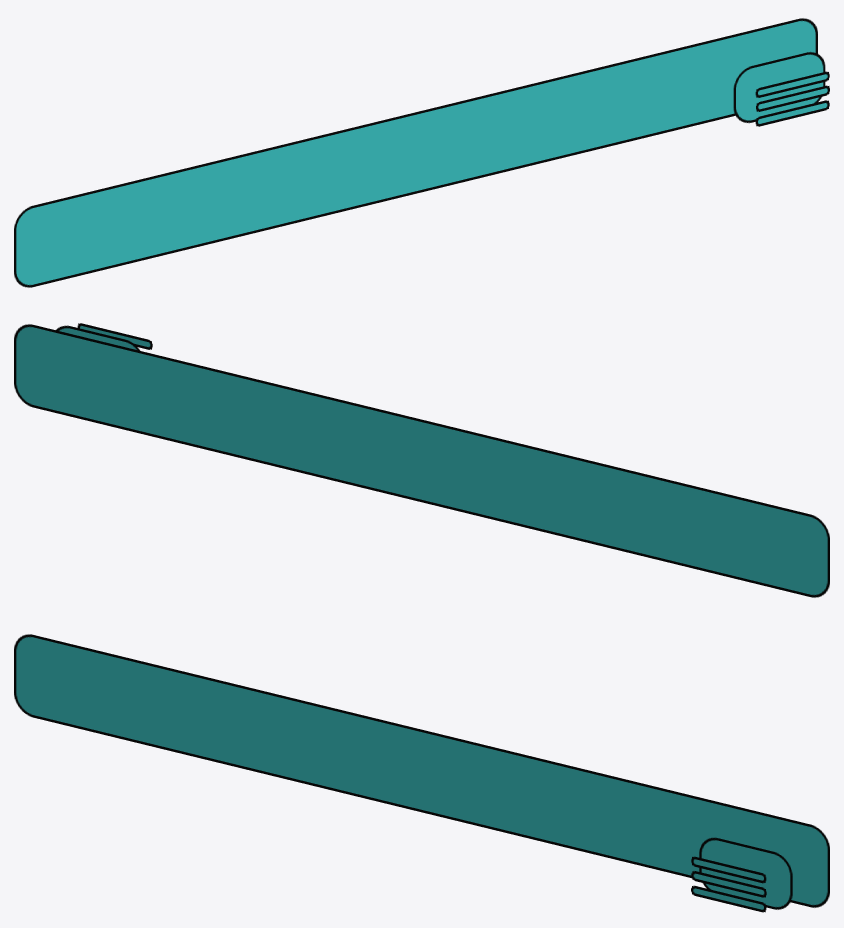
Rendered from nav bar1.glb.
3 renders of one model, top to bottom at view 1: azimuth 30°, elevation 25°; view 2: azimuth 150°, elevation 25°; view 3: azimuth 330°, elevation 25°, orthographic.
Visible parts, largest first — view 1: mesh_id26, mesh_id35, mesh_id62, mesh_id75, mesh_id69; view 2: mesh_id26, mesh_id35, mesh_id62; view 3: mesh_id26, mesh_id35, mesh_id75, mesh_id69, mesh_id62.
Boxes of the visible parts, x1,y1,x2,y2 form: mesh_id26: (14,18,817,287); mesh_id35: (733,52,825,123); mesh_id62: (755,71,829,97); mesh_id75: (755,100,829,126); mesh_id69: (756,85,829,111); mesh_id26: (14,324,829,597); mesh_id35: (56,325,140,350); mesh_id62: (77,323,152,349); mesh_id26: (14,634,829,907); mesh_id35: (699,837,792,909); mesh_id75: (691,885,766,912); mesh_id69: (691,871,766,897); mesh_id62: (691,856,766,883).
Size of the model in its own units: 1.05 by 0.1015 by 0.0838.
Materials: 5 (5 with a texture image).
